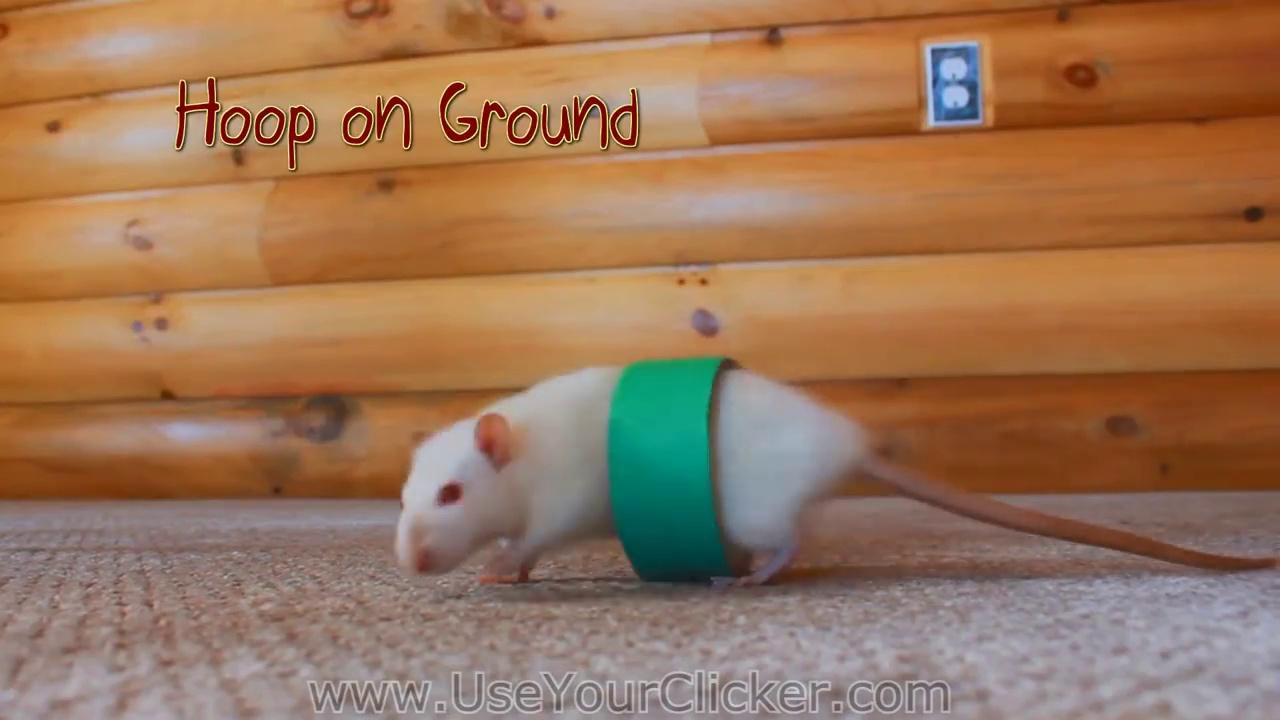rat: (395, 357, 881, 589)
